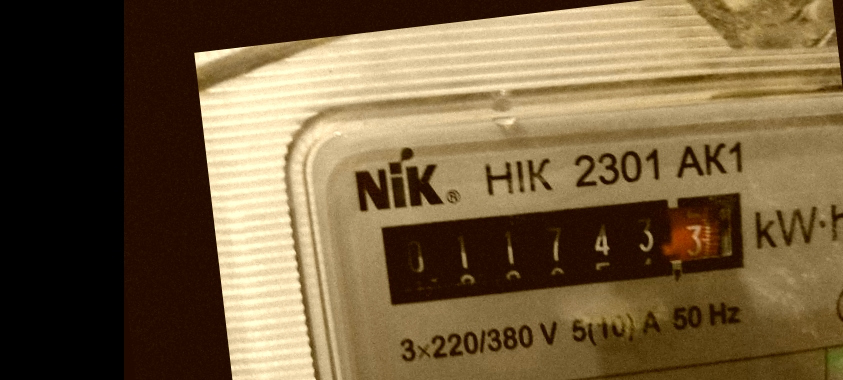0: (403, 236, 429, 277), (452, 229, 475, 272)
1: (499, 225, 520, 268)
3: (634, 212, 658, 257), (683, 219, 707, 259)
4: (589, 217, 613, 259)
7: (542, 219, 570, 266)
screen: (361, 171, 759, 322)
